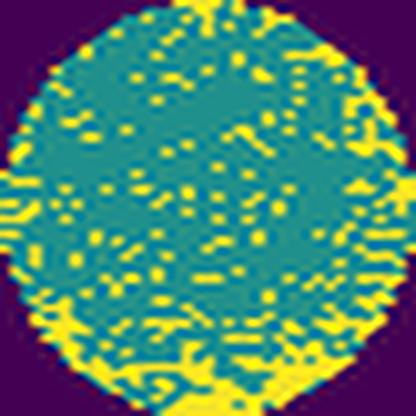Edge-Loc: (117, 338, 350, 416)
